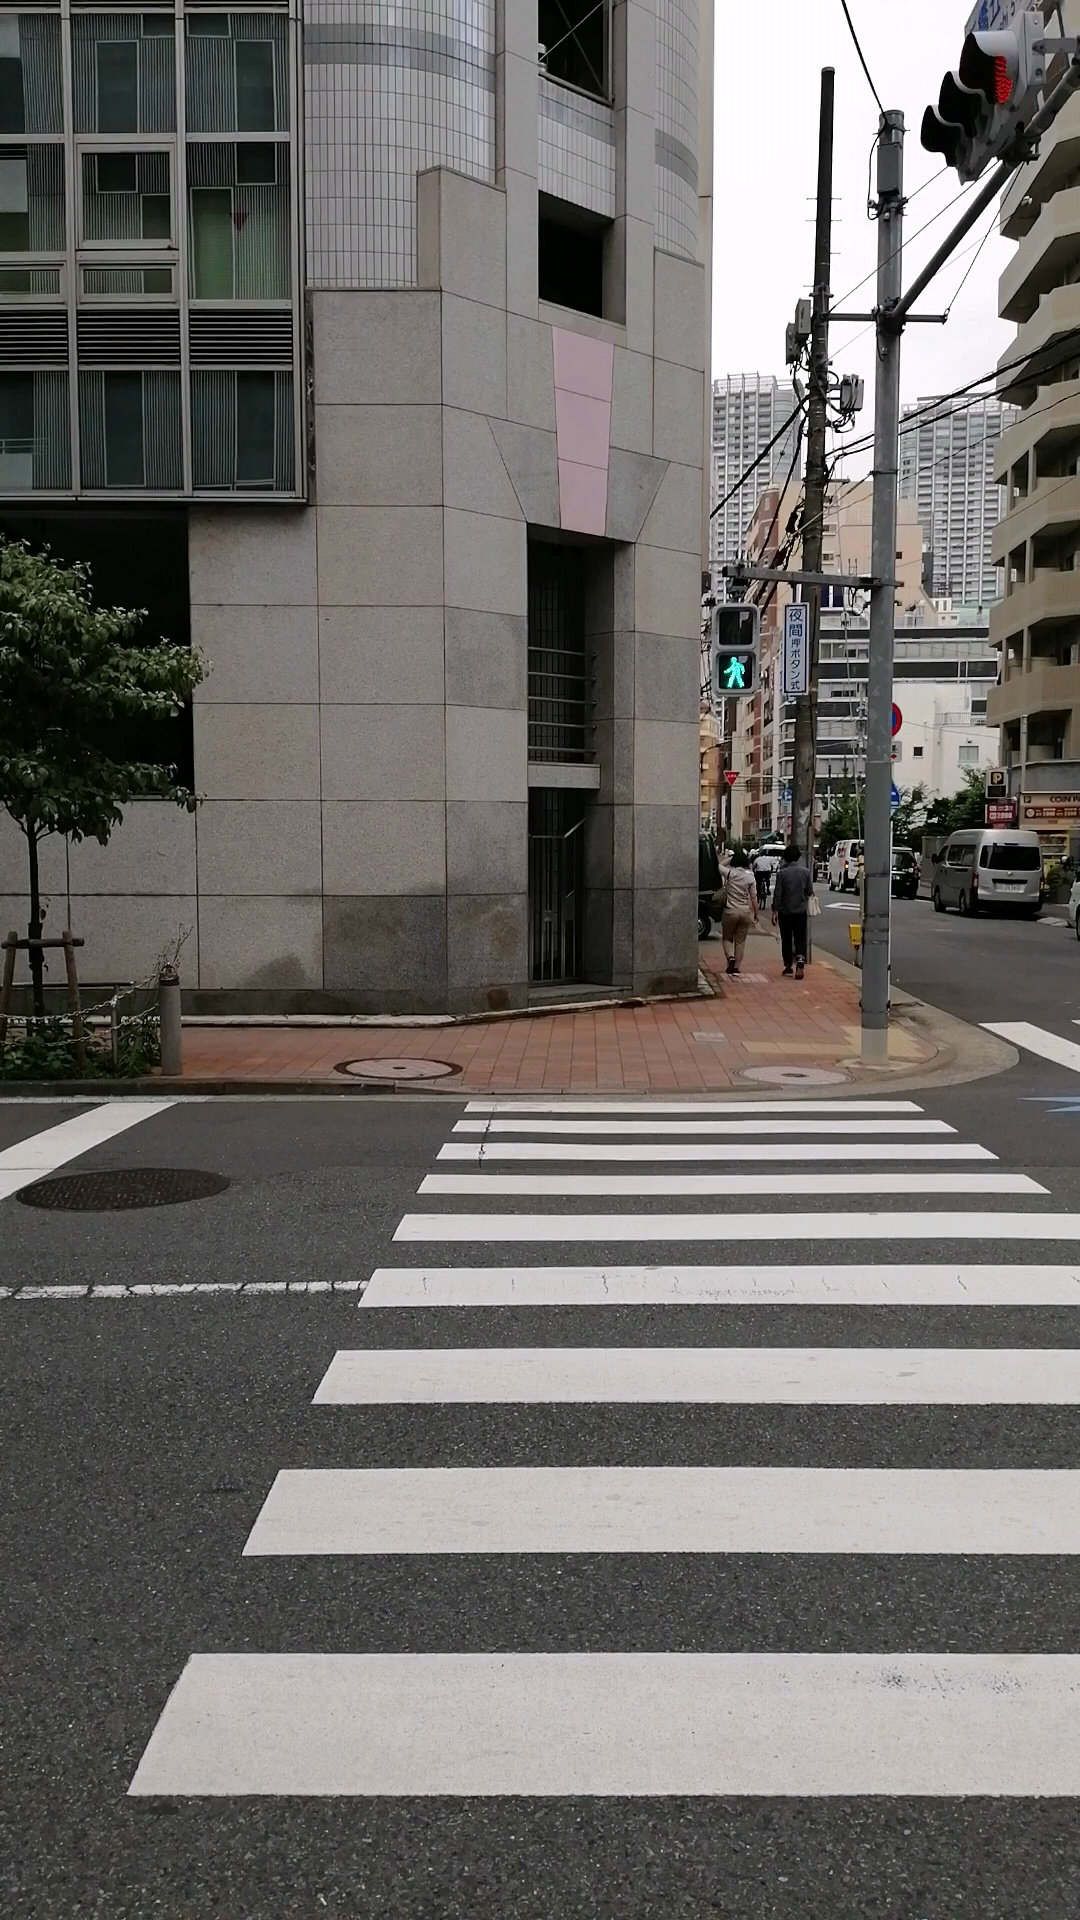green: (709, 603, 757, 696)
